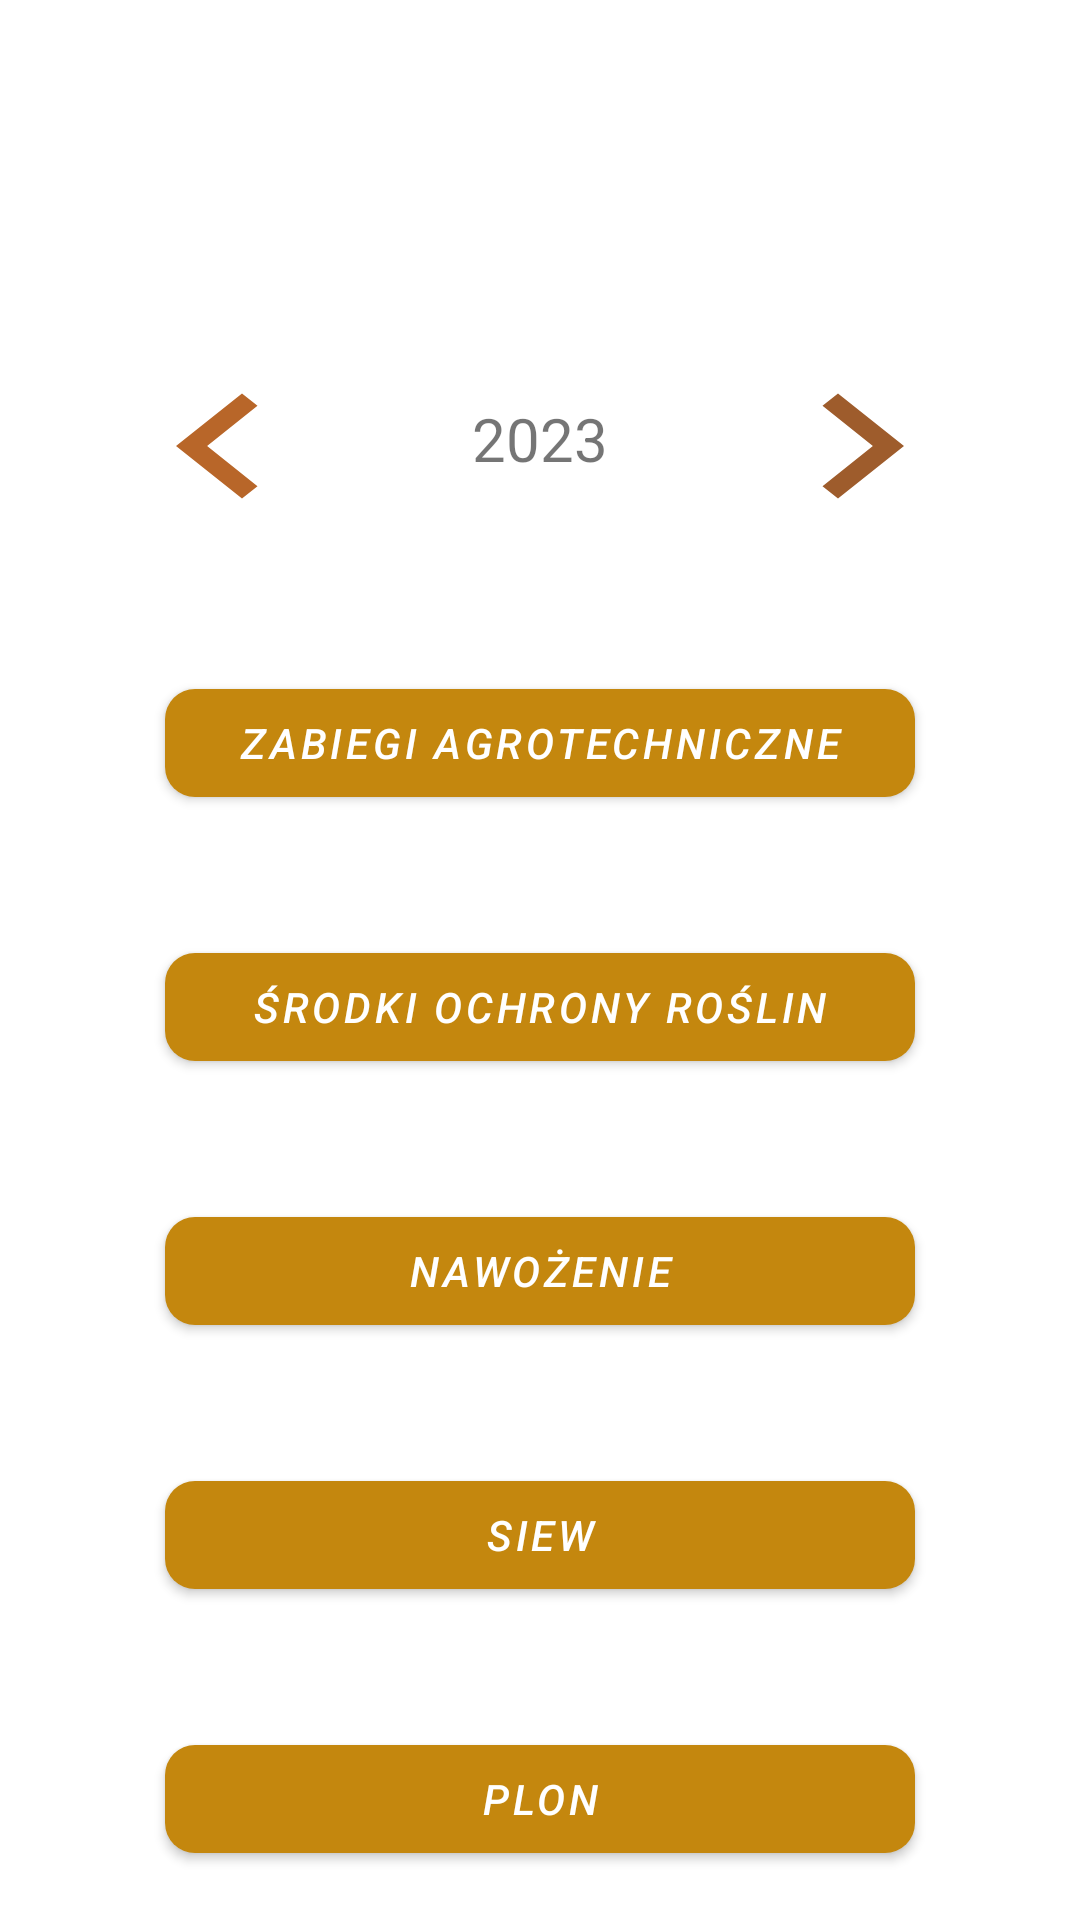

Named icons in this screenshot (1080×1920) and their bounding boxes, (x1, y1, x2, y2):
chevron left: (176, 393, 258, 499)
chevron right: (822, 393, 904, 499)
